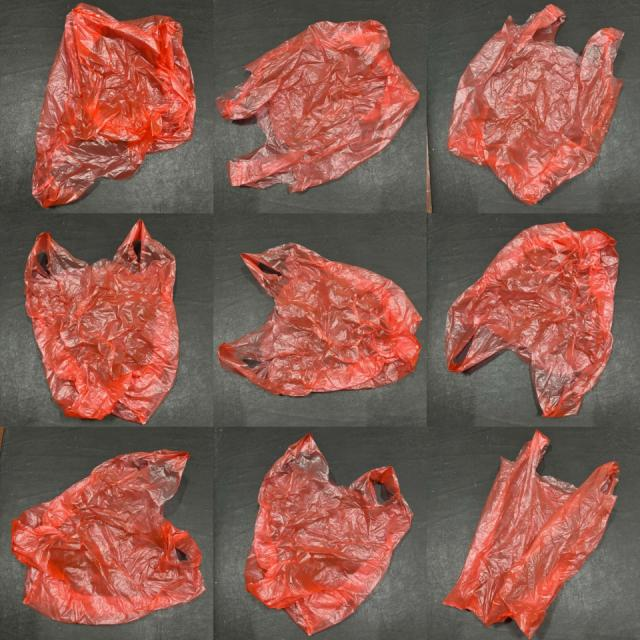Single-layer Plastic: (444, 431, 619, 638), (448, 5, 624, 204), (216, 21, 419, 192), (445, 222, 619, 418), (11, 450, 205, 625), (245, 434, 412, 635), (32, 4, 196, 208), (25, 220, 179, 423), (219, 244, 421, 396)
